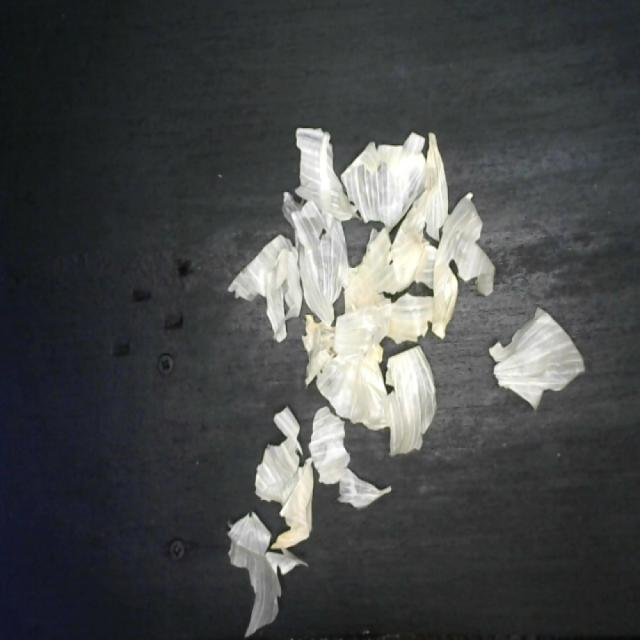biodegradable: (216, 110, 590, 636)
